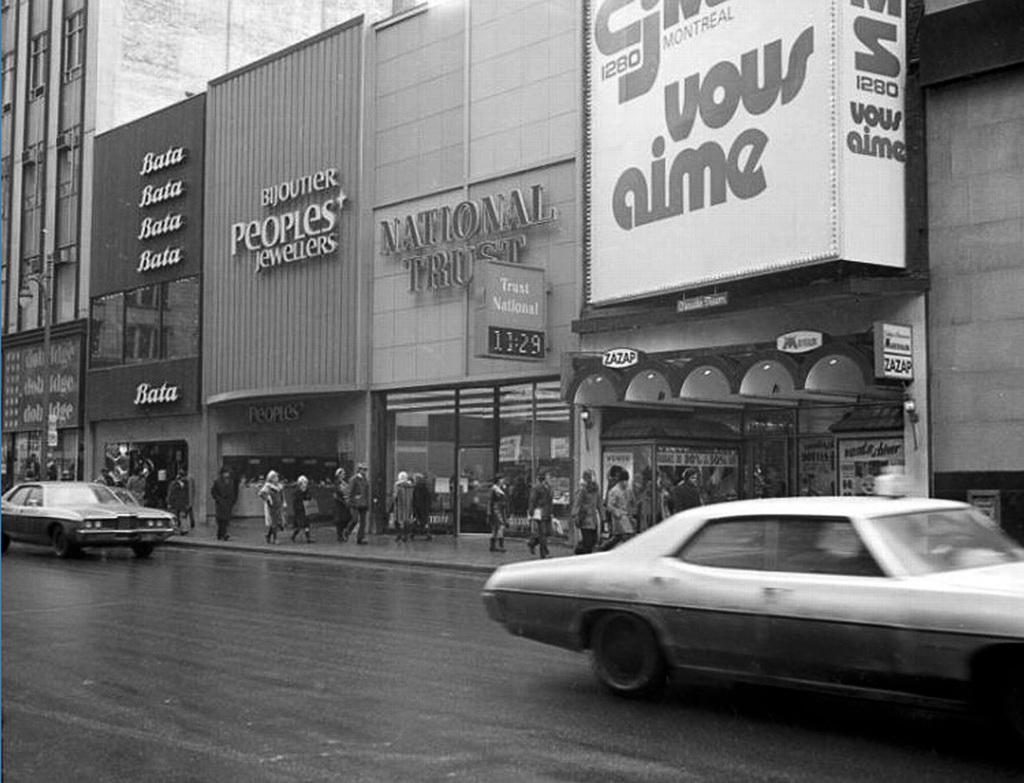cars: (477, 491, 1023, 721), (0, 480, 182, 559)
